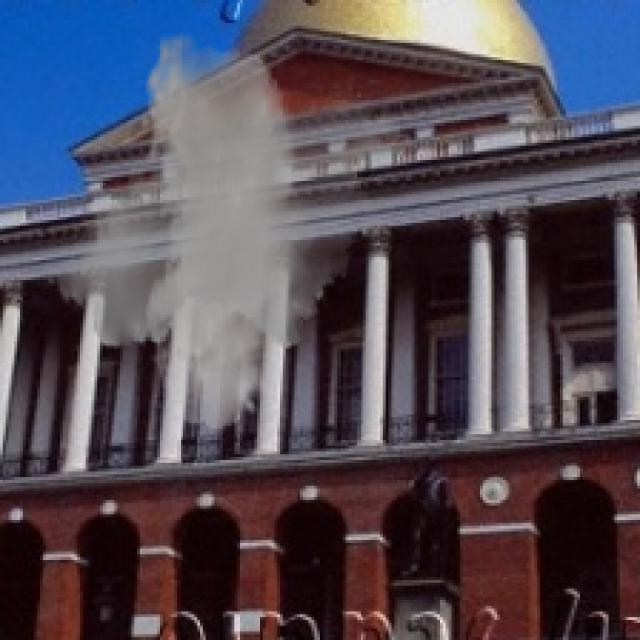smoke: (46, 31, 414, 432)
